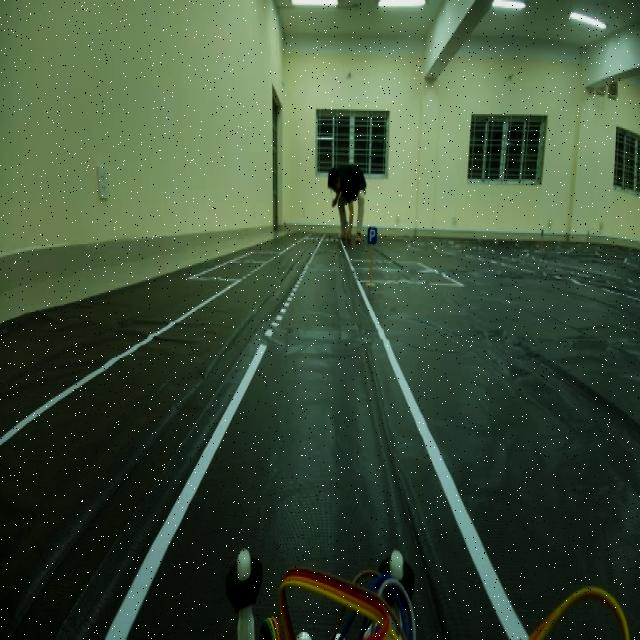parking: (364, 218, 381, 252)
